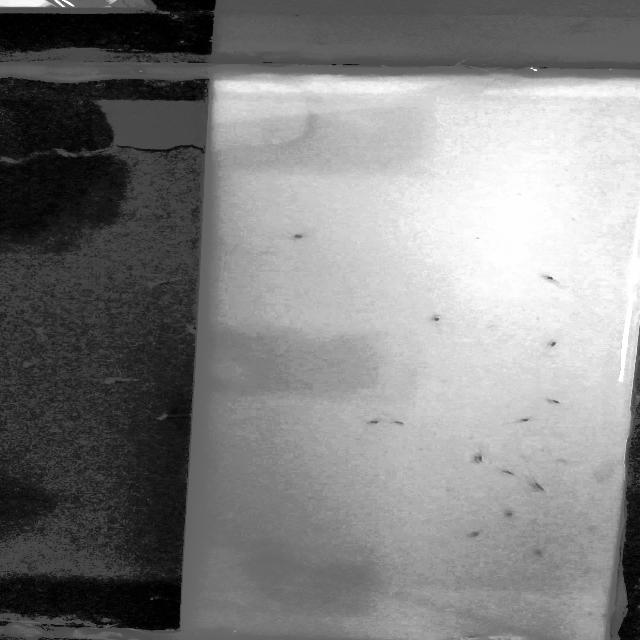shrimp: (472, 451, 495, 467), (538, 274, 566, 287), (497, 468, 523, 480), (544, 396, 570, 408), (498, 507, 525, 518), (363, 415, 387, 426), (388, 416, 414, 426), (426, 312, 444, 326), (528, 480, 550, 491), (289, 230, 310, 241), (512, 415, 546, 421), (542, 338, 560, 349), (530, 546, 544, 560), (468, 530, 486, 540), (461, 631, 487, 637)
